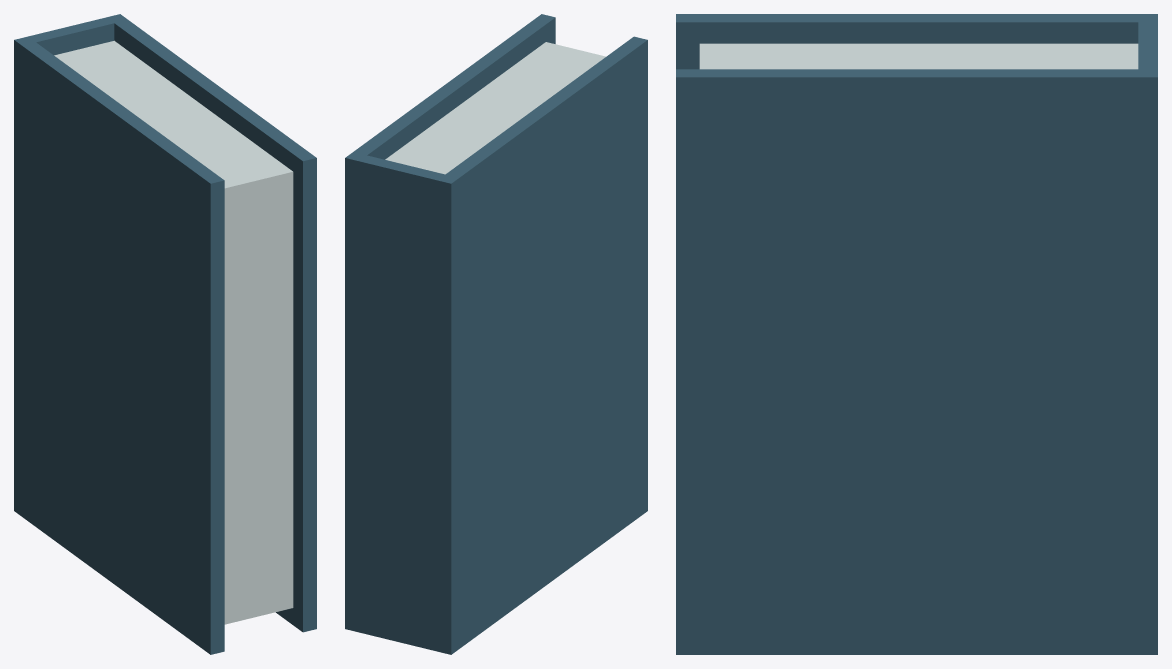
File: Book_5.fbx
The picture shows the model from 3 angles, left to right: view 1: azimuth 30°, elevation 25°; view 2: azimuth 150°, elevation 25°; view 3: azimuth 270°, elevation 25°; orthographic projection. The views are drawn at different scales.
Parts seen in each view (by area): view 1: Book_5; view 2: Book_5; view 3: Book_5.
Part boxes in pixels (x1,y1,x2,y2): Book_5: [14, 14, 316, 654]; Book_5: [345, 14, 647, 654]; Book_5: [676, 14, 1157, 654].
Size of the model in its own units: 8.53 by 36.18 by 27.36.
1 material, 1 textured.
